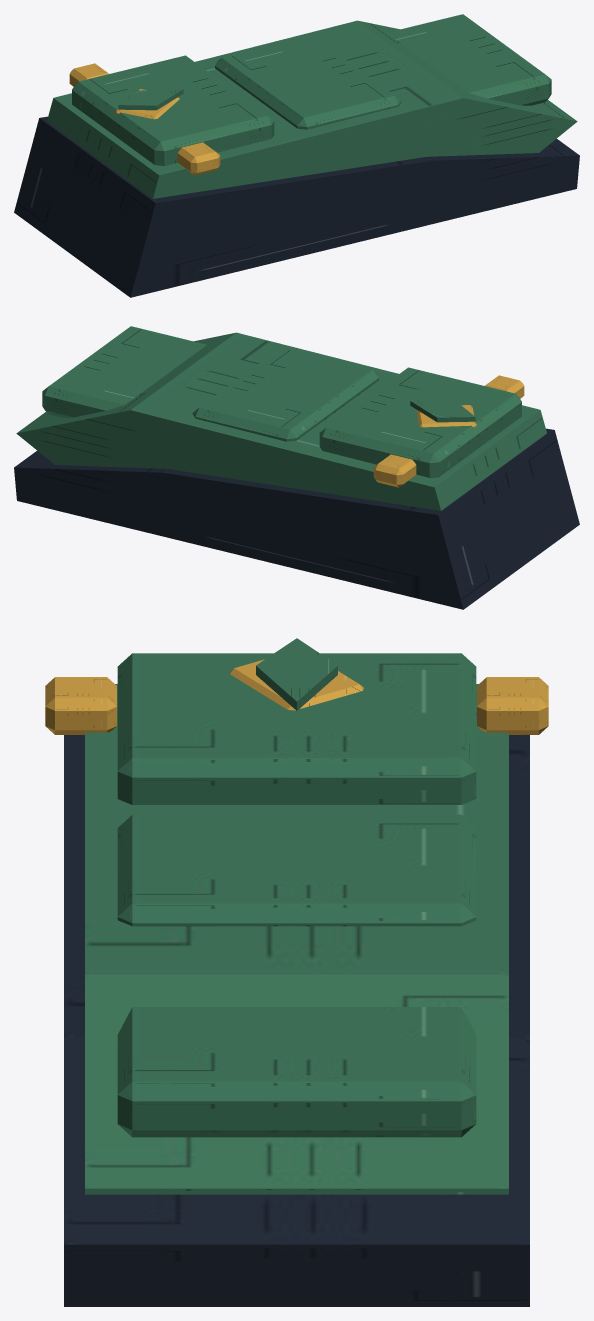
File: striders.glb
The picture shows the model from 3 angles, top to bottom: view 1: azimuth 30°, elevation 25°; view 2: azimuth 150°, elevation 25°; view 3: azimuth 270°, elevation 25°; orthographic projection. The views are drawn at different scales.
Parts seen in each view (by area): view 1: foot_L, foot_R; view 2: foot_L, foot_R; view 3: foot_L, foot_R.
Part boxes in pixels (x1=…): foot_L: x1=14, y1=14, x2=579, y2=297; foot_R: x1=177, y1=142, x2=220, y2=175; foot_L: x1=14, y1=326, x2=579, y2=609; foot_R: x1=485, y1=375, x2=524, y2=398; foot_L: x1=64, y1=638, x2=548, y2=1306; foot_R: x1=45, y1=677, x2=116, y2=734.
Size of the model in its own units: 0.305 by 0.0895 by 0.147.
3 materials, 3 textured.
